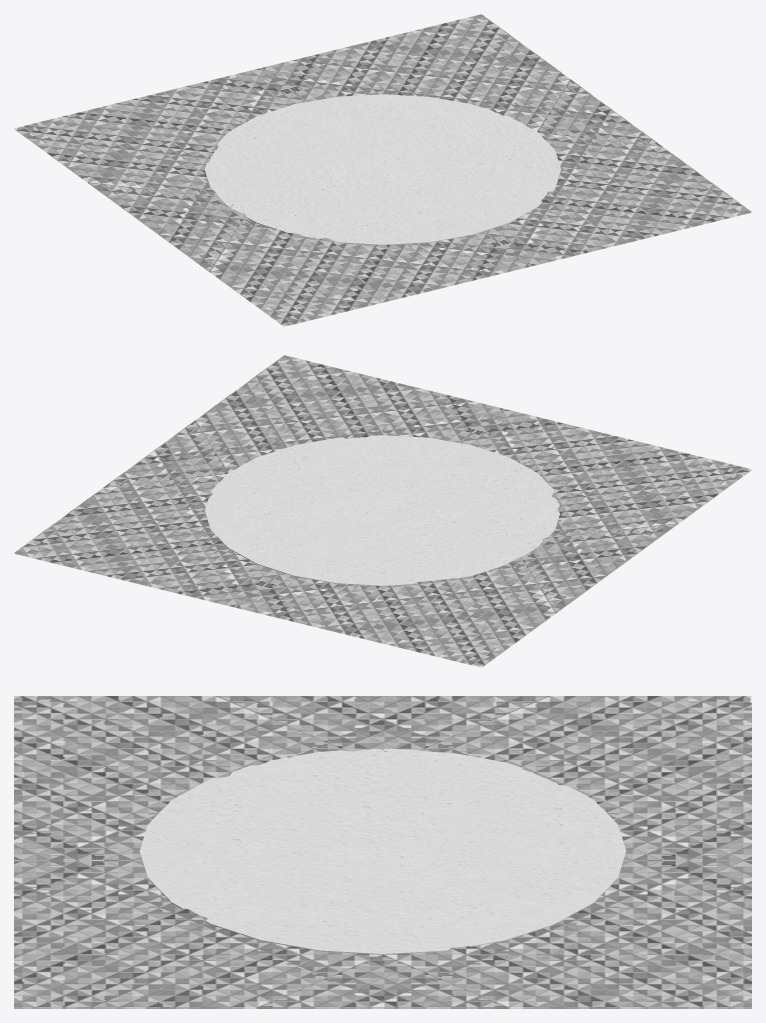
File: hx_jcyql_smw.FBX
The picture shows the model from 3 angles, top to bottom: view 1: azimuth 30°, elevation 25°; view 2: azimuth 150°, elevation 25°; view 3: azimuth 270°, elevation 25°; orthographic projection. The views are drawn at different scales.
Visible parts, largest first — view 1: hx_jcyql_smw; view 2: hx_jcyql_smw; view 3: hx_jcyql_smw.
Part boxes in pixels (box(x1,y1,x2,y2)): hx_jcyql_smw: box(14, 14, 751, 326); hx_jcyql_smw: box(14, 355, 751, 667); hx_jcyql_smw: box(14, 696, 751, 1008).
Bounding box in the file's own units: 12.5 × 0.05 × 12.5.
